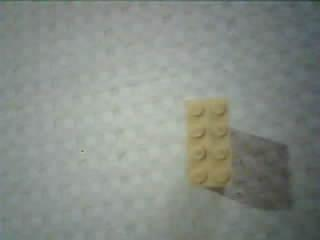lego: (183, 99, 233, 189)
